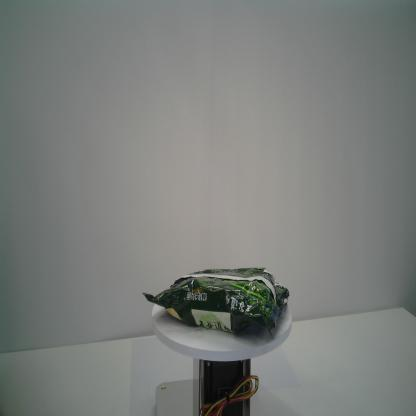Instant Noodles: (143, 266, 290, 336)
